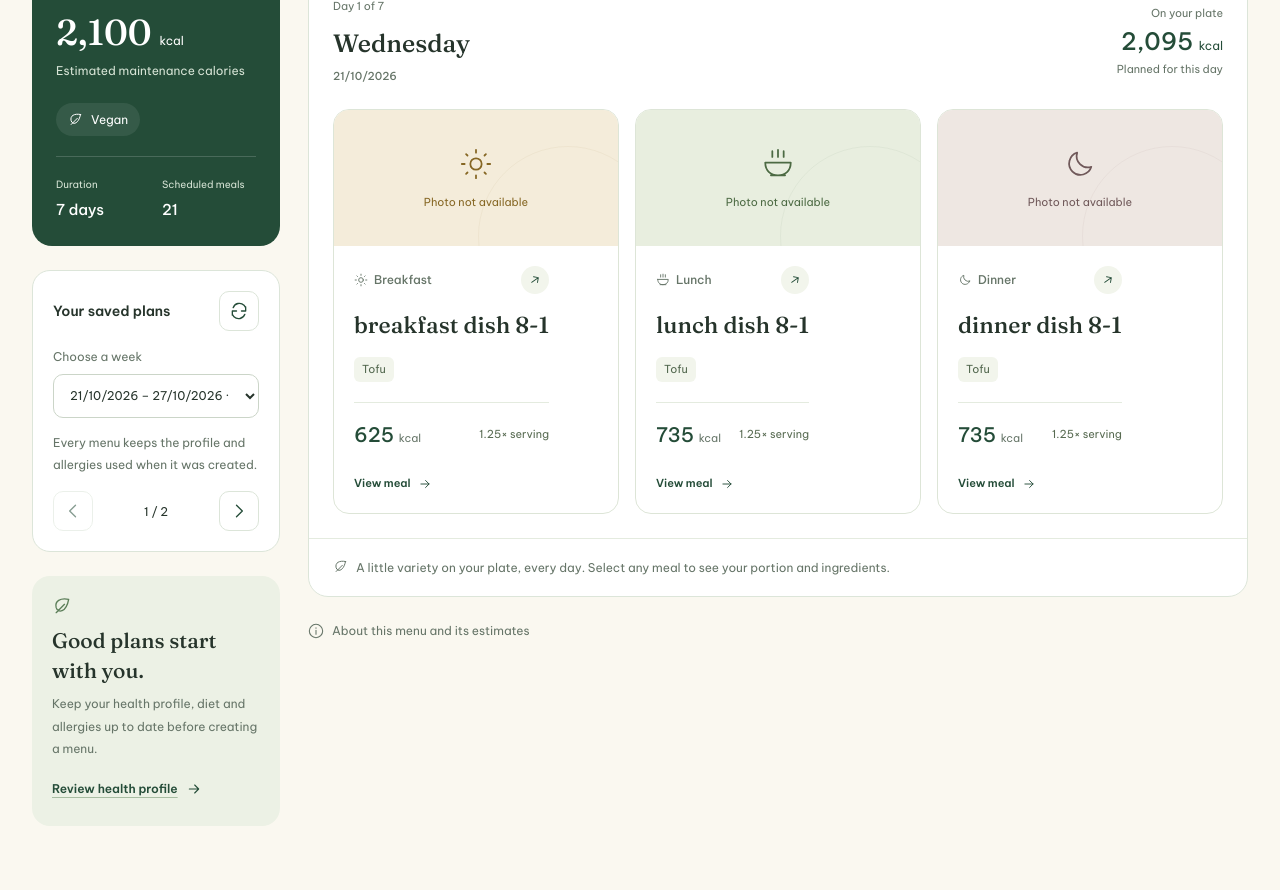
Scenario: opens another persisted plan through the detail endpoint and paginates saved plans
(page scrolled)
Click the button named "Next plans" at [239, 511], box [219,491,259,531]
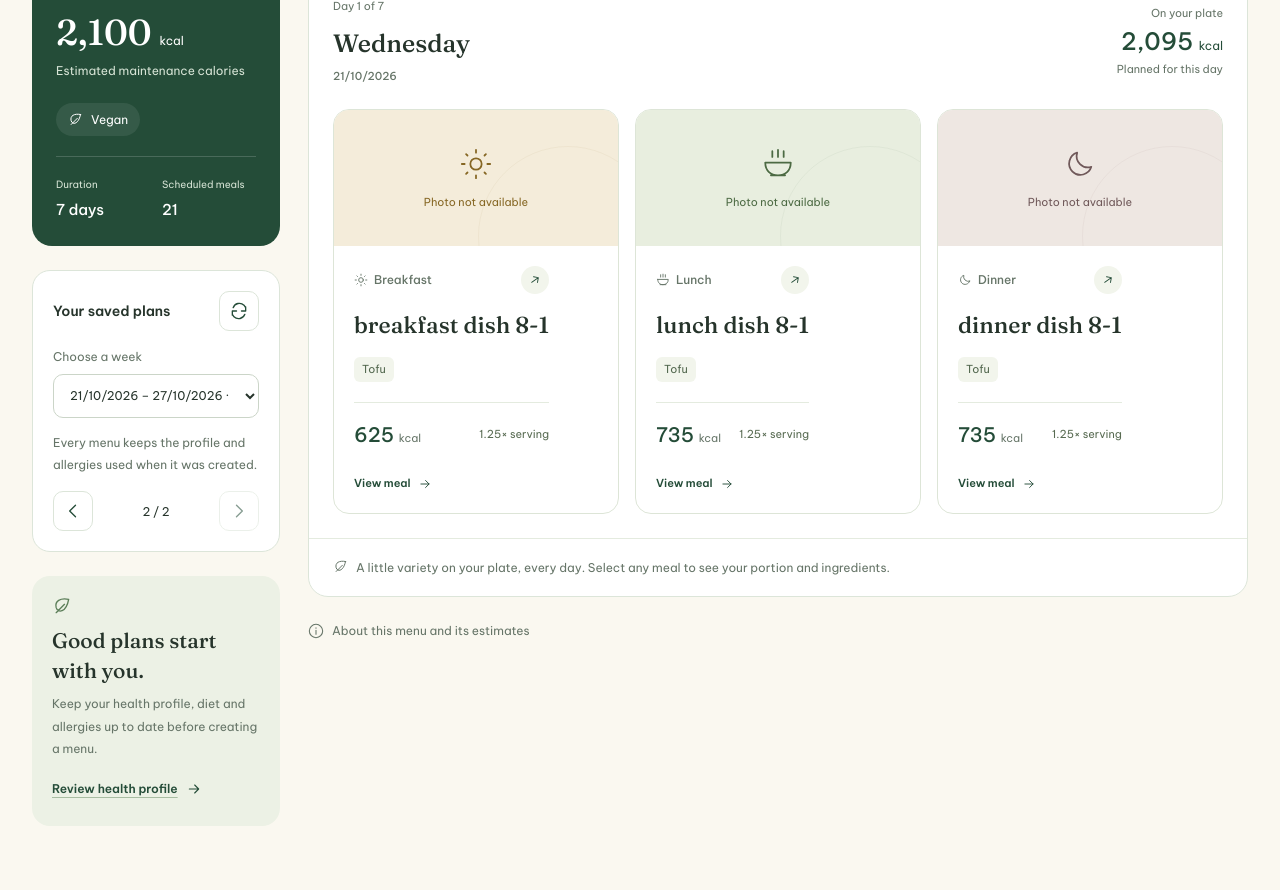
Select "21/10/2026 – 27/10/2026 · #7" in the dropdown with id "saved-meal-plan" at [156, 396], box [53,374,259,418]
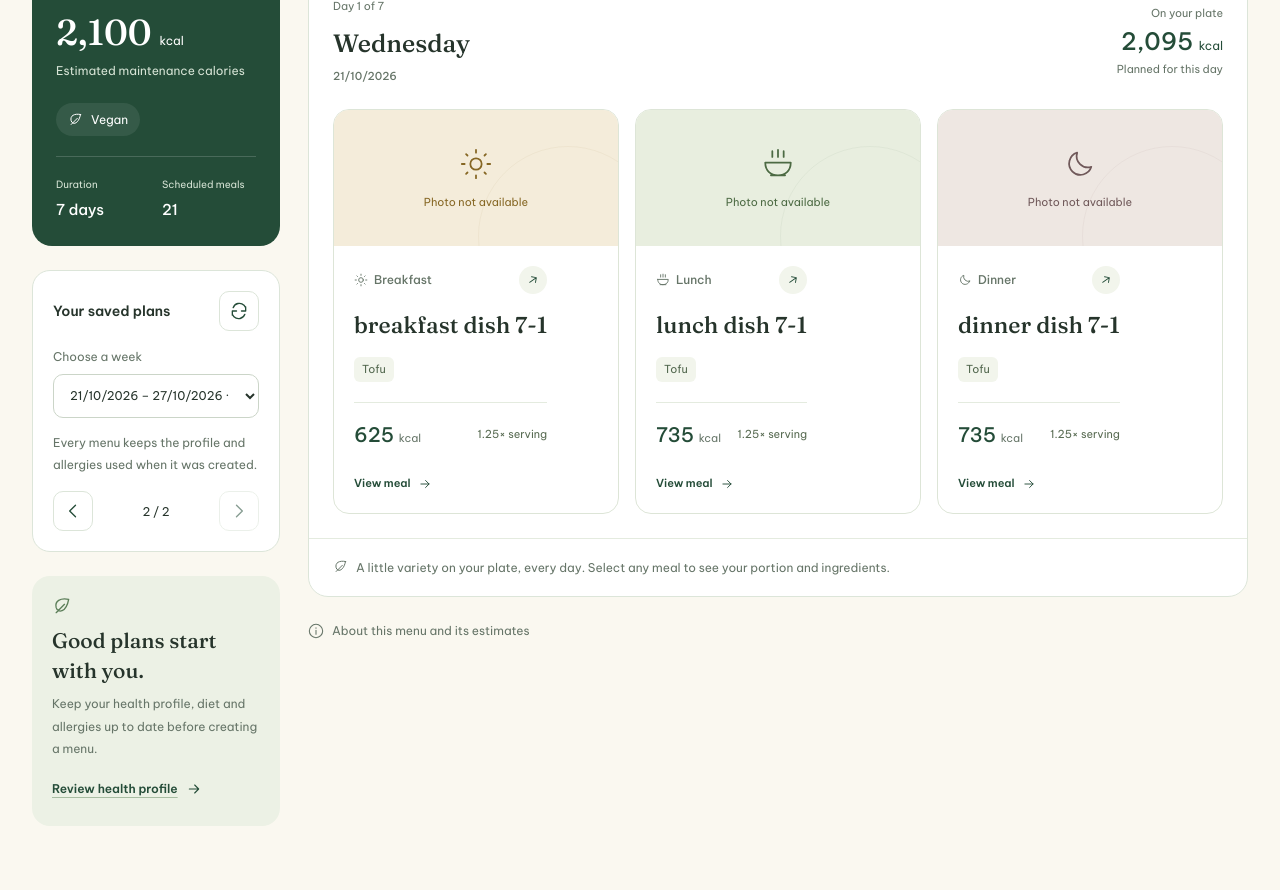
Expected: the text "breakfast dish 7-1" is shown, [354,310,547,341]
